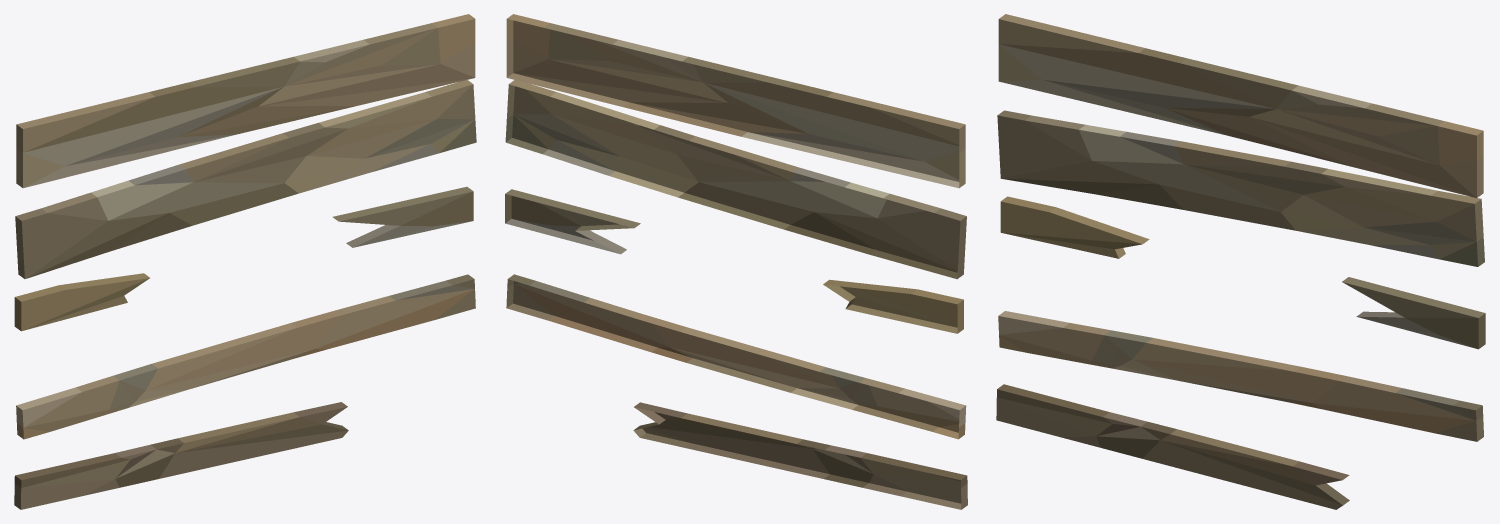
File: Wall_UG-BoardsB.fbx
3 renders of one model, left to right at view 1: azimuth 30°, elevation 25°; view 2: azimuth 150°, elevation 25°; view 3: azimuth 330°, elevation 25°, orthographic. The views are drawn at different scales.
Visible parts, largest first — view 1: Wall_UG-BoardsB; view 2: Wall_UG-BoardsB; view 3: Wall_UG-BoardsB.
Boxes of the visible parts, <box> form: Wall_UG-BoardsB: <box>14,14,476,509</box>; Wall_UG-BoardsB: <box>505,14,967,509</box>; Wall_UG-BoardsB: <box>996,14,1485,509</box>.
Bounding box in the file's own units: 403 × 327 × 16.9.
